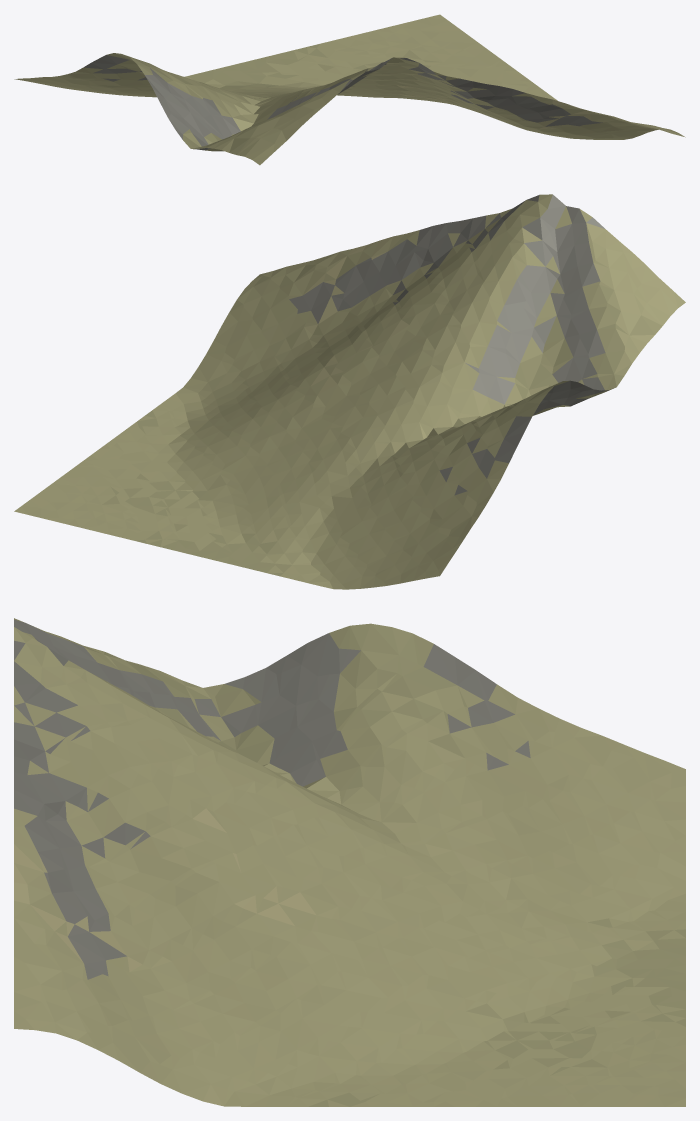
Rendered from Ground_4_1.glb.
The picture shows the model from 3 angles, top to bottom: view 1: azimuth 30°, elevation 25°; view 2: azimuth 150°, elevation 25°; view 3: azimuth 270°, elevation 25°; orthographic projection. The views are drawn at different scales.
Parts seen in each view (by area): view 1: Ground_4_1; view 2: Ground_4_1; view 3: Ground_4_1.
Boxes of the visible parts, left/top/right/bottom form: Ground_4_1: left=14, top=14, right=685, bottom=165; Ground_4_1: left=14, top=194, right=685, bottom=589; Ground_4_1: left=14, top=618, right=685, bottom=1106.
Bounding box in the file's own units: 768 × 359 × 768.
